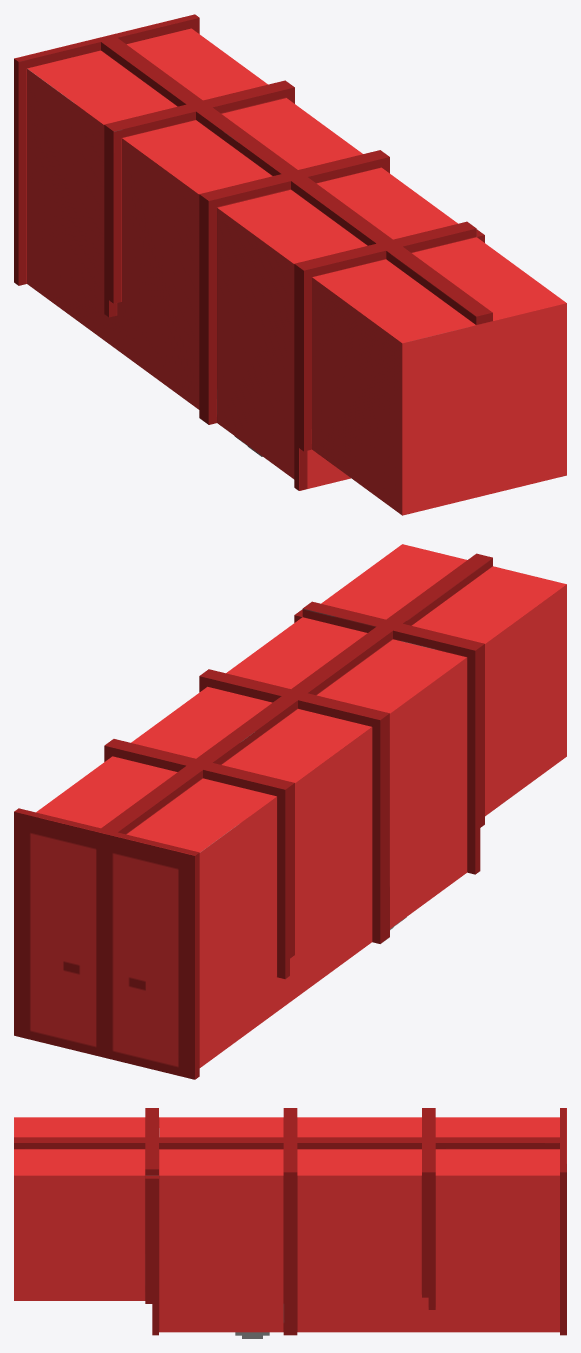
File: Trailer_Box_Var1_1.obj
The picture shows the model from 3 angles, top to bottom: view 1: azimuth 30°, elevation 25°; view 2: azimuth 150°, elevation 25°; view 3: azimuth 270°, elevation 25°; orthographic projection. The views are drawn at different scales.
Parts seen in each view (by area): view 1: Trailer_Box_Var1_1_Trailer_Box_Var1_1.001; view 2: Trailer_Box_Var1_1_Trailer_Box_Var1_1.001; view 3: Trailer_Box_Var1_1_Trailer_Box_Var1_1.001.
Part boxes in pixels (left/top/right/bottom): Trailer_Box_Var1_1_Trailer_Box_Var1_1.001: left=14, top=14, right=566, bottom=515; Trailer_Box_Var1_1_Trailer_Box_Var1_1.001: left=14, top=544, right=566, bottom=1079; Trailer_Box_Var1_1_Trailer_Box_Var1_1.001: left=14, top=1108, right=566, bottom=1338.
Size of the model in its own units: 2.2 by 2.8 by 8.
